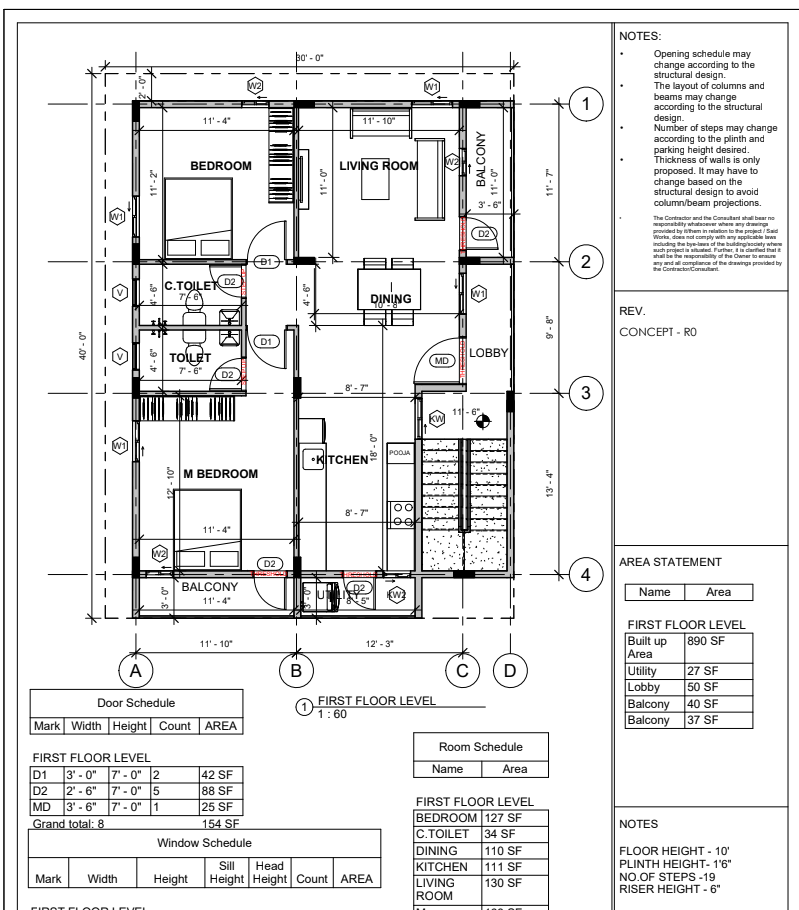door: (413, 338, 463, 385), (244, 325, 289, 370), (246, 220, 288, 264), (461, 211, 500, 253), (251, 570, 290, 610), (339, 572, 378, 612), (207, 355, 245, 395)
